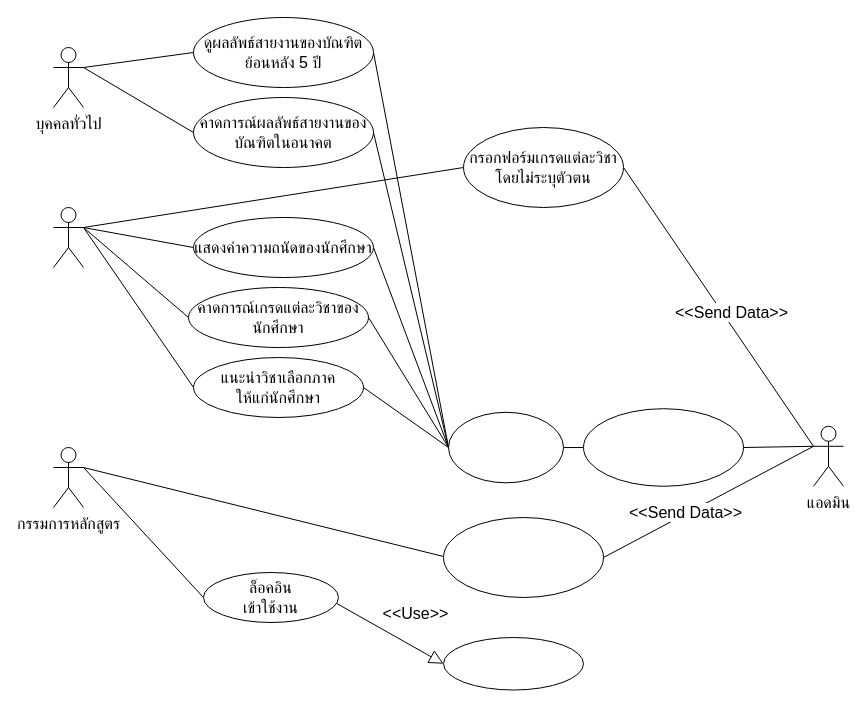
Image size: 867x708. Some labels were removed from this diagram. Here are the shapes that lost their labels. From the top down, the centre of each, then its label:
the point at 68,237: นักศึกษา
the point at 506,447: Visualization
the point at 663,447: ทำนายพยากรณ์ ผลลัพธ์และคาดการณ์
the point at 523,557: ให้ข้อมูลนักศึกษา โดยไม่ระบุตัวตน
the point at 513,663: ล็อคเอ้าท์ ออกจากระบบ
